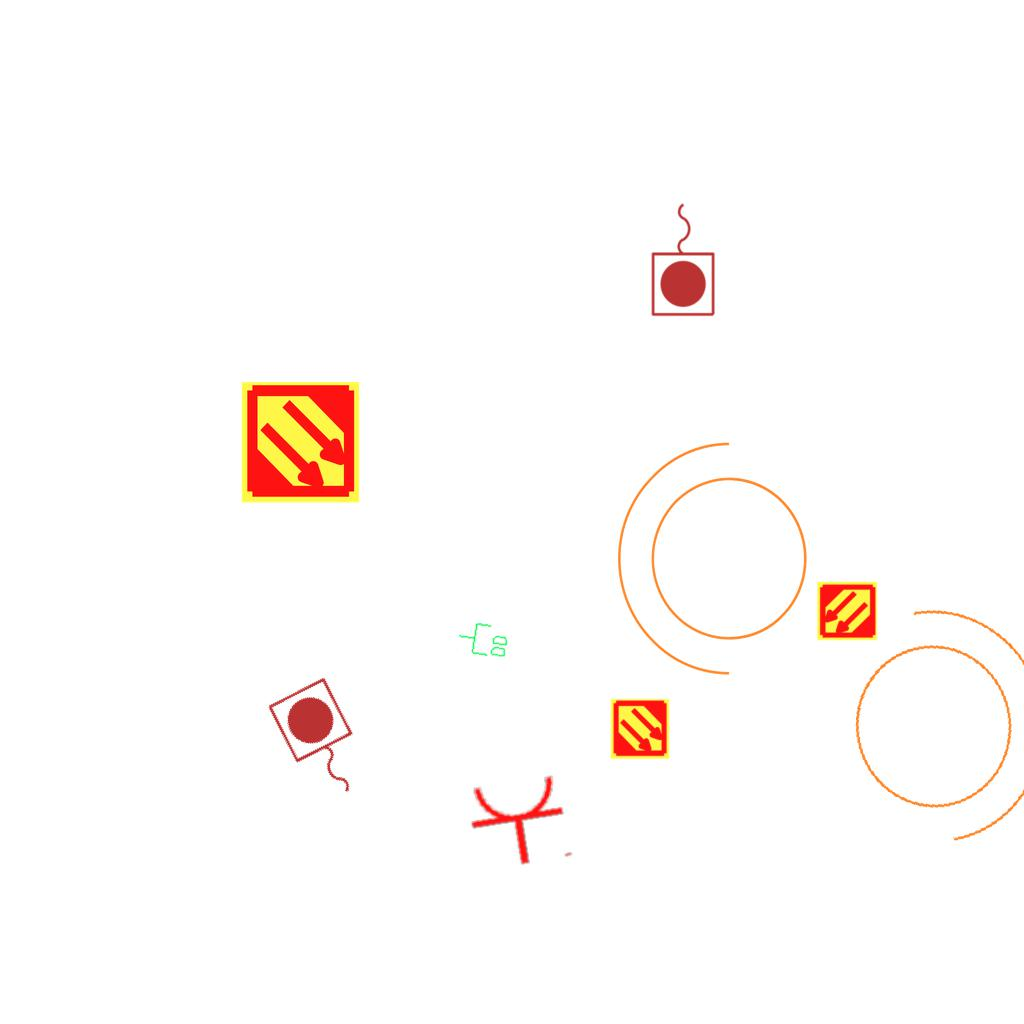ASR_Ansaugrauchmelder: (238, 380, 363, 505), (609, 698, 671, 760), (816, 580, 878, 642)
Datenanschluss_zweifach: (455, 619, 512, 661)
Scheinwerfer_fuer_Alarmbeleuchtung: (808, 568, 1024, 869), (607, 433, 832, 697)
Schukosteckdose_einfach: (464, 771, 577, 873)
Zugtaster: (261, 672, 381, 814), (648, 198, 720, 320)
